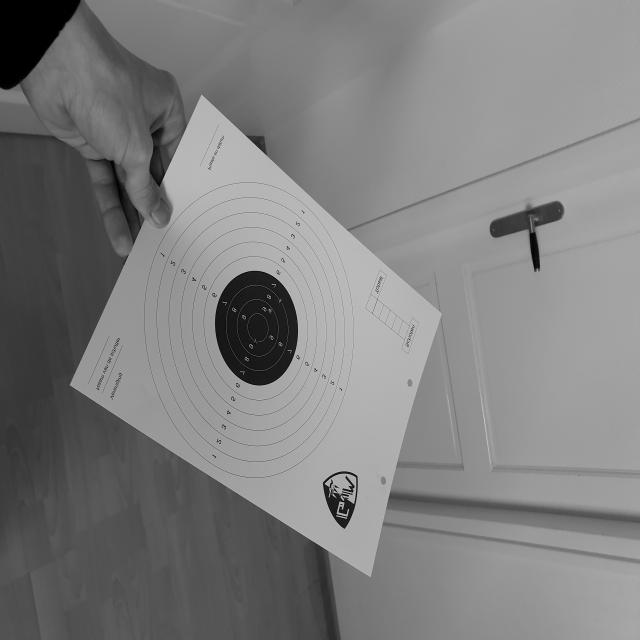10: (253, 338, 259, 345)
8: (277, 297, 283, 305)
9: (268, 307, 273, 314)
Target: (142, 182, 356, 478)
black_contour: (215, 270, 298, 386)
